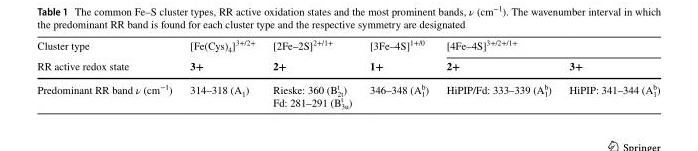table: (36, 36, 659, 111)
table column: (36, 36, 180, 111), (436, 36, 559, 111), (559, 36, 659, 111), (263, 36, 360, 111), (180, 36, 263, 111), (360, 36, 436, 111)
table column header: (36, 36, 659, 78)
table row: (36, 78, 659, 111), (36, 56, 659, 78), (36, 36, 659, 56)
table spanning cell: (36, 36, 180, 78), (436, 36, 659, 56), (263, 36, 360, 78), (180, 36, 263, 78), (360, 36, 436, 78)
